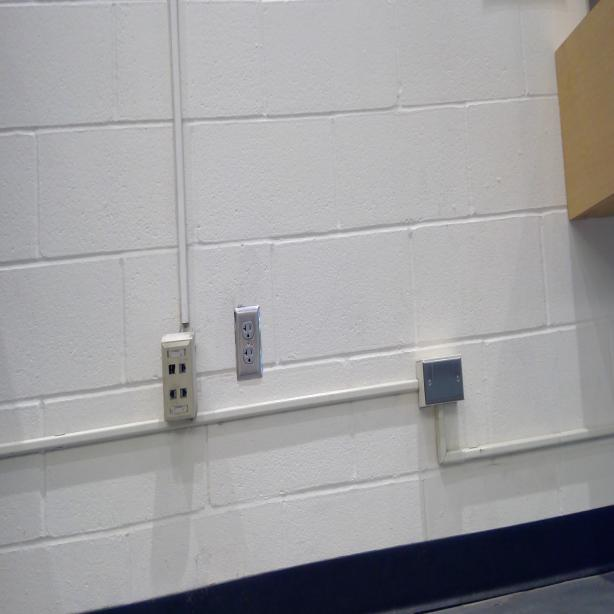typeb: (241, 322, 254, 340), (243, 347, 255, 366)
